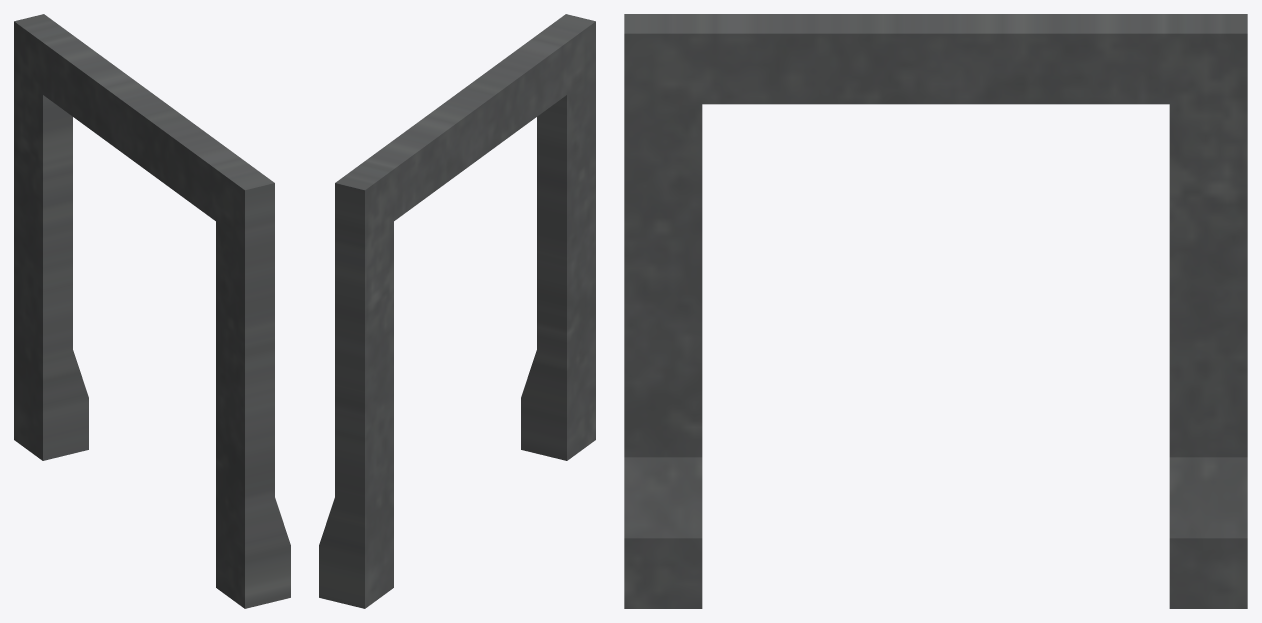
Rendered from wall 2_v2.fbx.
3 views of the same model, side by side, from view 1: azimuth 30°, elevation 25°; view 2: azimuth 150°, elevation 25°; view 3: azimuth 270°, elevation 25° (orthographic). The views are drawn at different scales.
Visible parts, largest first — view 1: Plane.013; view 2: Plane.013; view 3: Plane.013.
Part boxes in pixels (x1=…): Plane.013: x1=14, y1=14, x2=290, y2=608; Plane.013: x1=319, y1=14, x2=595, y2=608; Plane.013: x1=624, y1=14, x2=1247, y2=608.
Bounding box in the file's own units: 23 × 200 × 200.
